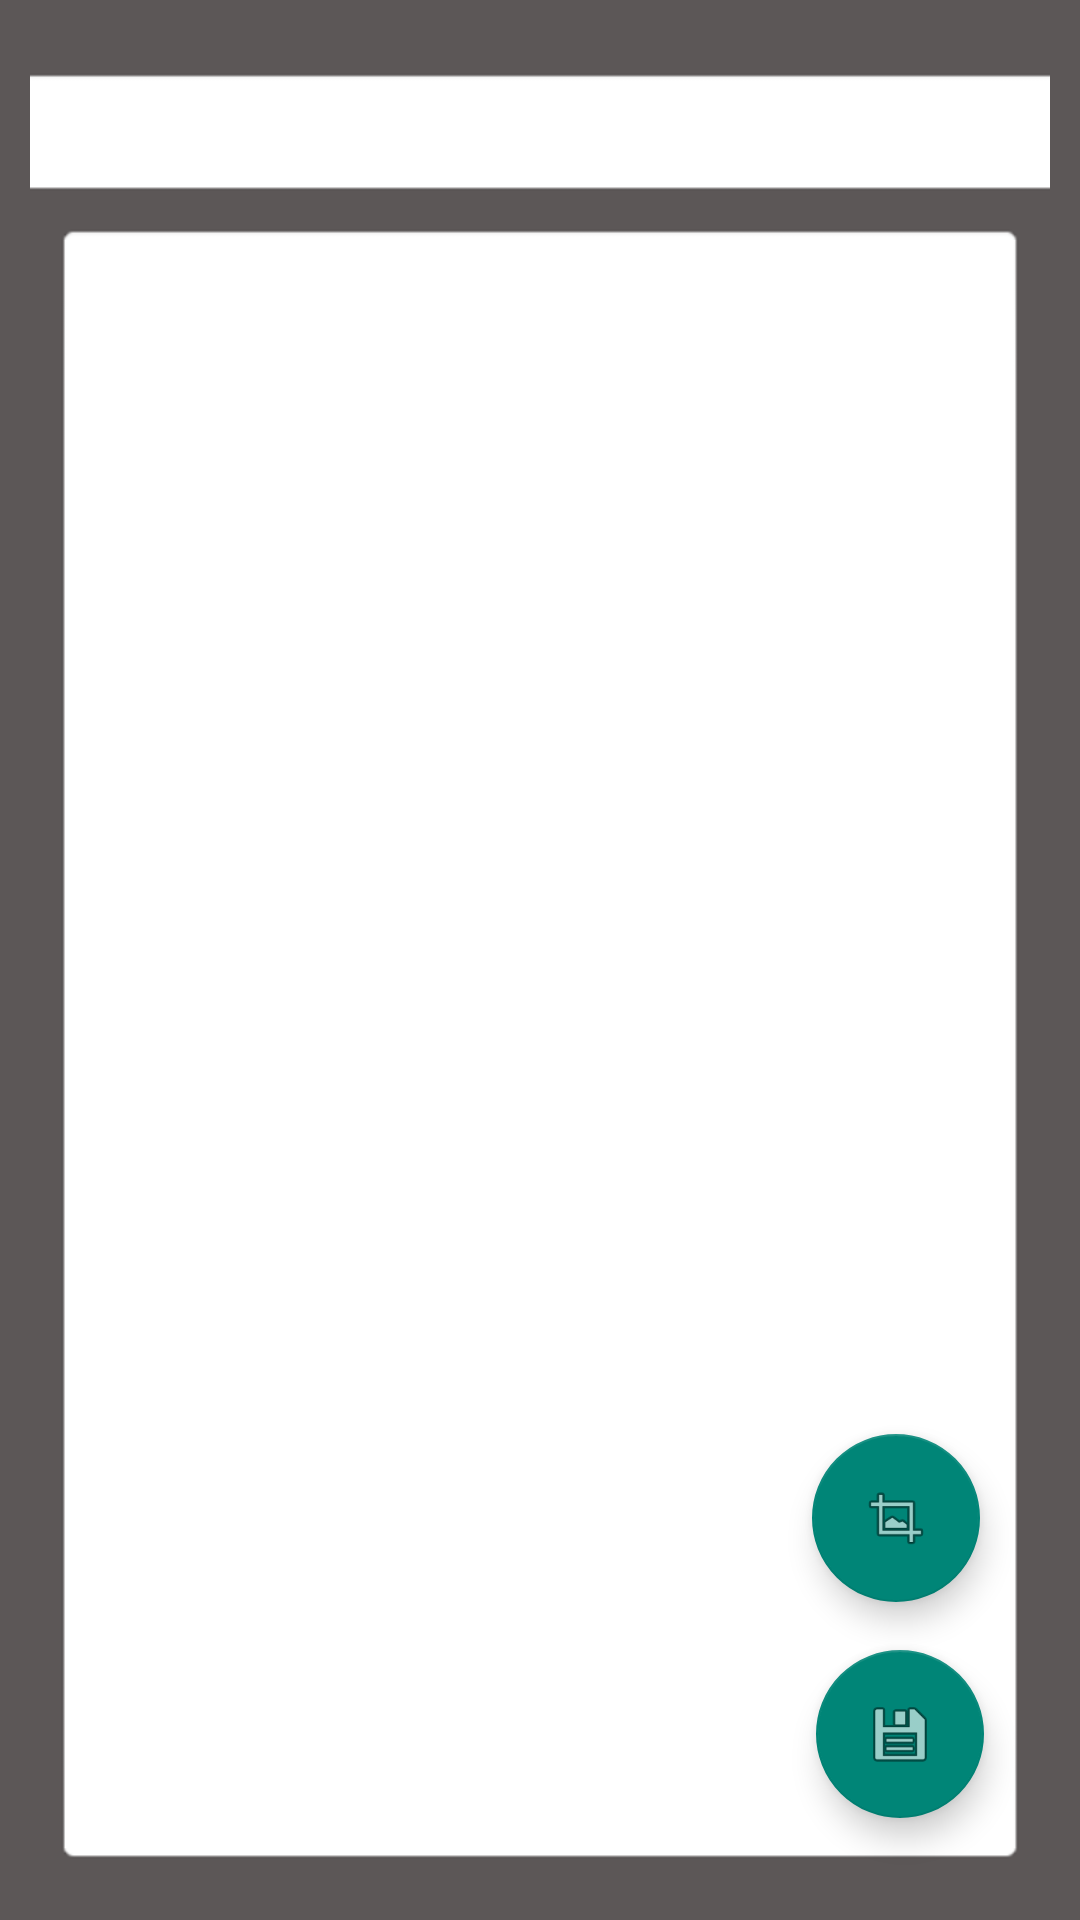

Icons on this 1080x1920 Android screen, each with its box as (x1, y1, x2, y2):
crop: (812, 1434, 980, 1602)
save: (816, 1650, 984, 1818)
